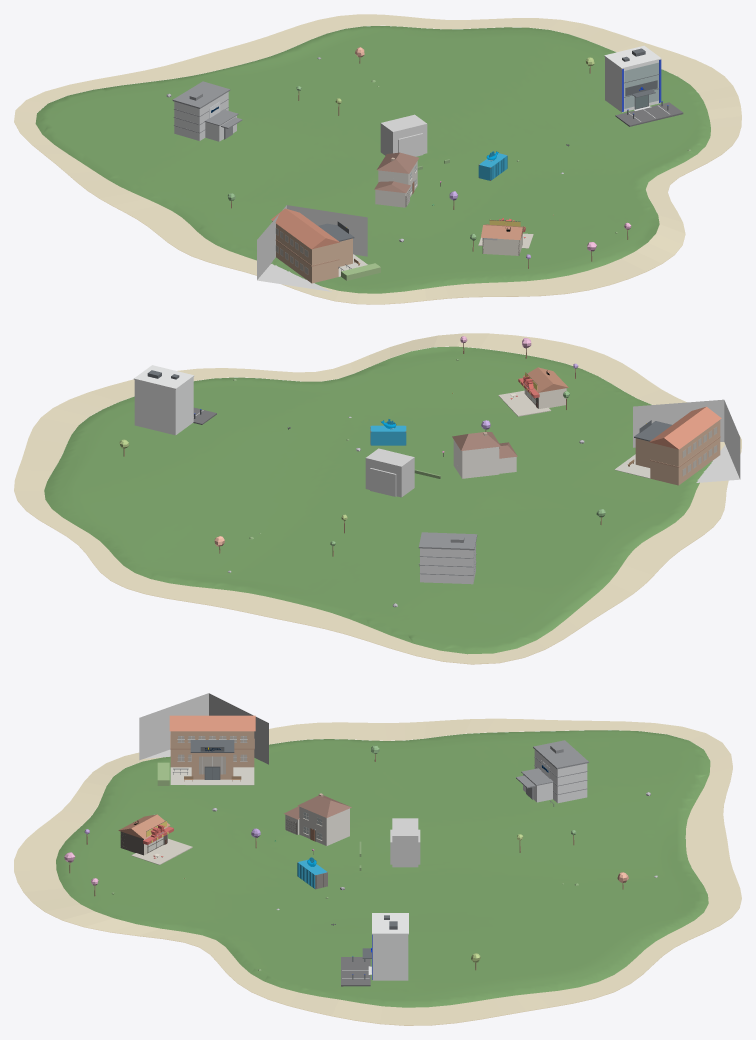
The model's file is island-8ceab0c5a05c.glb.
3 renders of one model, top to bottom at view 1: azimuth 30°, elevation 25°; view 2: azimuth 150°, elevation 25°; view 3: azimuth 270°, elevation 25°, orthographic. The views are drawn at different scales.
Visible parts, largest first — view 1: Terrain, Beach, THG_col, Designa_Mesh_White, THG_Mesh_Brick, HAW_Mesh_ConcreteDark, HAW_Mesh_Concrete, THG_Roof_Main, Blockout_Landmark_THG, HQ_Mesh_Wall, Designa_Mesh_Glass, Designa_Mesh_Asphalt (+7 smaller); view 2: Terrain, Beach, Designa_Mesh_White, THG_col, THG_Mesh_Brick, HAW_Mesh_Concrete, HQ_Mesh_Wall, Blockout_Landmark_THG, THG_Roof_Main, HAW_Mesh_ConcreteDark, Beach_WetSand, Egg_Container_Red (+5 smaller); view 3: Terrain, Beach, THG_col, THG_Mesh_Brick, Designa_Mesh_White, HAW_Mesh_ConcreteDark, HQ_Mesh_Wall, THG_Roof_Main, HAW_Mesh_Concrete, Blockout_Landmark_THG, THG_Mesh_Pavement, THG_Mesh_Glass (+6 smaller).
Part boxes in pixels (<box>): Terrain: <box>35,26,710,293</box>; Beach: <box>14,14,741,304</box>; THG_col: <box>257,205,367,291</box>; Designa_Mesh_White: <box>604,45,669,121</box>; THG_Mesh_Brick: <box>272,221,352,283</box>; HAW_Mesh_ConcreteDark: <box>172,81,242,139</box>; HAW_Mesh_Concrete: <box>174,92,228,140</box>; THG_Roof_Main: <box>271,208,339,249</box>; Blockout_Landmark_THG: <box>380,114,427,155</box>; HQ_Mesh_Wall: <box>375,161,417,207</box>; Designa_Mesh_Glass: <box>624,62,658,108</box>; Designa_Mesh_Asphalt: <box>615,102,683,126</box>; Terrain: <box>44,346,712,654</box>; Beach: <box>14,333,741,664</box>; Designa_Mesh_White: <box>133,365,203,435</box>; THG_col: <box>633,399,740,482</box>; THG_Mesh_Brick: <box>635,420,720,485</box>; HAW_Mesh_Concrete: <box>420,543,475,584</box>; HQ_Mesh_Wall: <box>453,440,516,478</box>; Blockout_Landmark_THG: <box>365,448,414,497</box>; THG_Roof_Main: <box>649,406,721,449</box>; HAW_Mesh_ConcreteDark: <box>418,532,477,575</box>; Beach_WetSand: <box>14,452,741,664</box>; Egg_Container_Red: <box>370,425,406,445</box>; Terrain: <box>56,730,710,1007</box>; Beach: <box>14,718,741,1025</box>; THG_col: <box>139,693,268,764</box>; THG_Mesh_Brick: <box>170,731,254,779</box>; Designa_Mesh_White: <box>342,913,408,980</box>; HAW_Mesh_ConcreteDark: <box>516,740,588,799</box>; HQ_Mesh_Wall: <box>285,806,349,845</box>; THG_Roof_Main: <box>169,715,255,731</box>; HAW_Mesh_Concrete: <box>534,749,587,803</box>; Blockout_Landmark_THG: <box>392,818,418,867</box>; THG_Mesh_Pavement: <box>170,767,254,785</box>; THG_Mesh_Glass: <box>178,736,246,779</box>.
Size of what is drawn, in the model's own units: 122 by 11.14 by 122.
94 materials, 8 textured.
